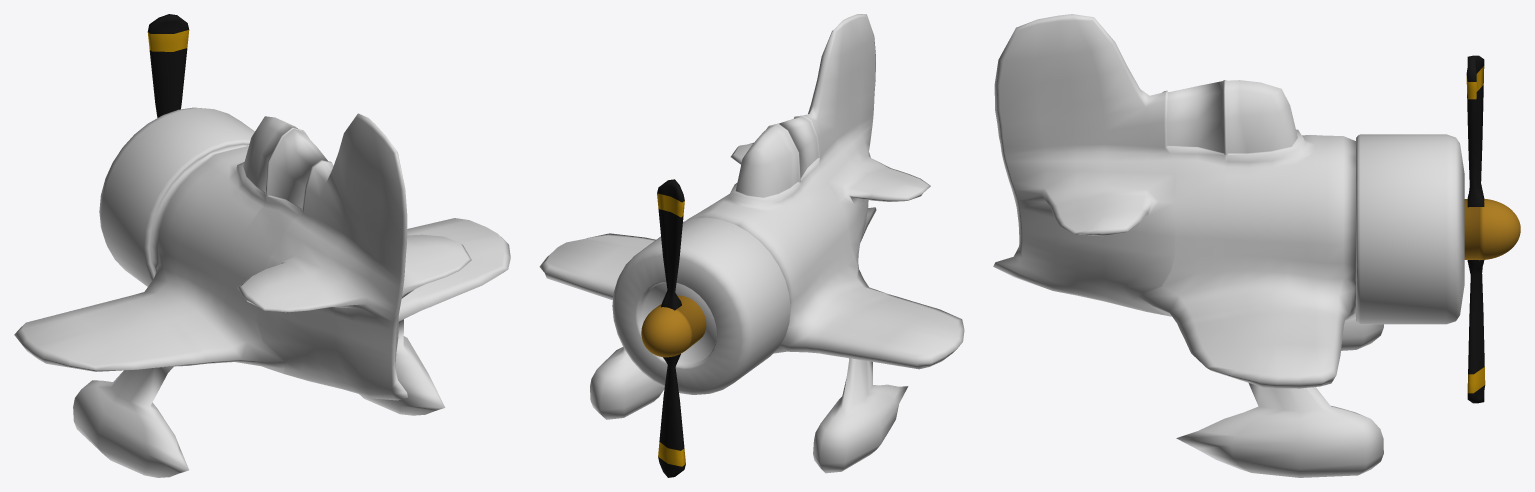
The model's file is plane1testexport5.fbx.
3 views of the same model, side by side, from view 1: azimuth 30°, elevation 25°; view 2: azimuth 150°, elevation 25°; view 3: azimuth 270°, elevation 25° (orthographic). The views are drawn at different scales.
Parts seen in each view (by area): view 1: plane_lowPoly, prop; view 2: plane_lowPoly, prop, prop_shield; view 3: plane_lowPoly, prop, prop_shield.
Boxes of the visible parts, left/top/right/bottom form: plane_lowPoly: left=14, top=107, right=510, bottom=477; prop: left=147, top=14, right=189, bottom=117; plane_lowPoly: left=539, top=14, right=964, bottom=473; prop: left=657, top=179, right=685, bottom=477; prop_shield: left=641, top=295, right=706, bottom=357; plane_lowPoly: left=993, top=14, right=1464, bottom=477; prop: left=1466, top=55, right=1485, bottom=403; prop_shield: left=1464, top=199, right=1520, bottom=260.
Bounding box in the file's own units: 631 × 499 × 608.
